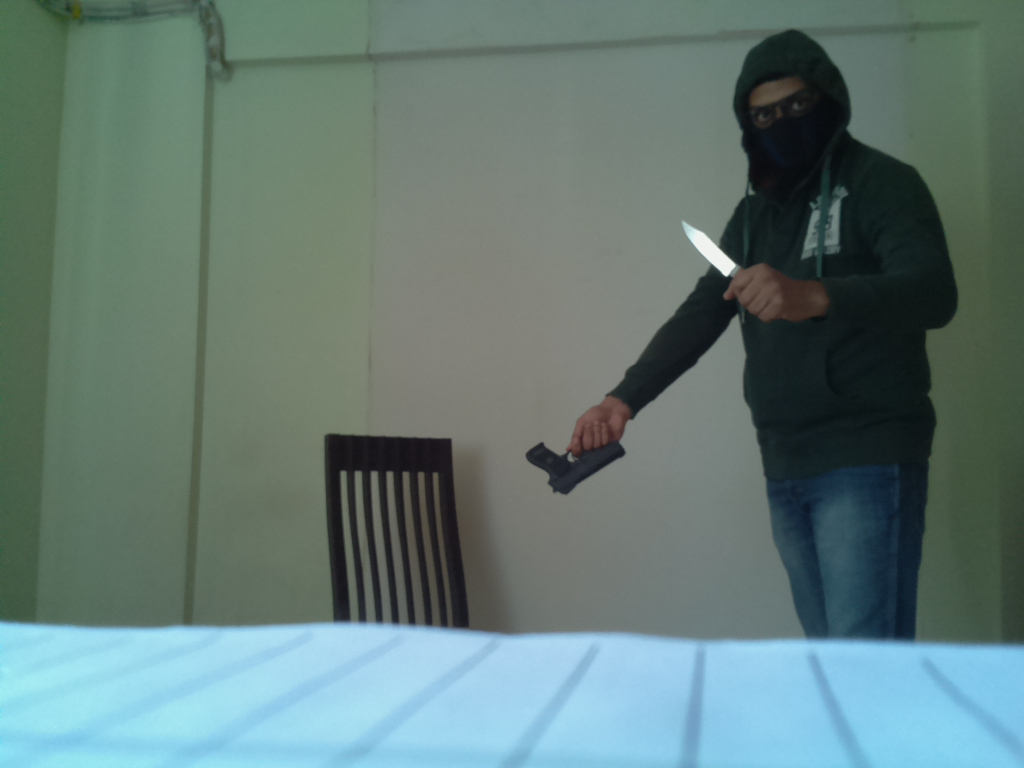gun: (530, 434, 632, 496)
knife: (678, 214, 741, 281)
